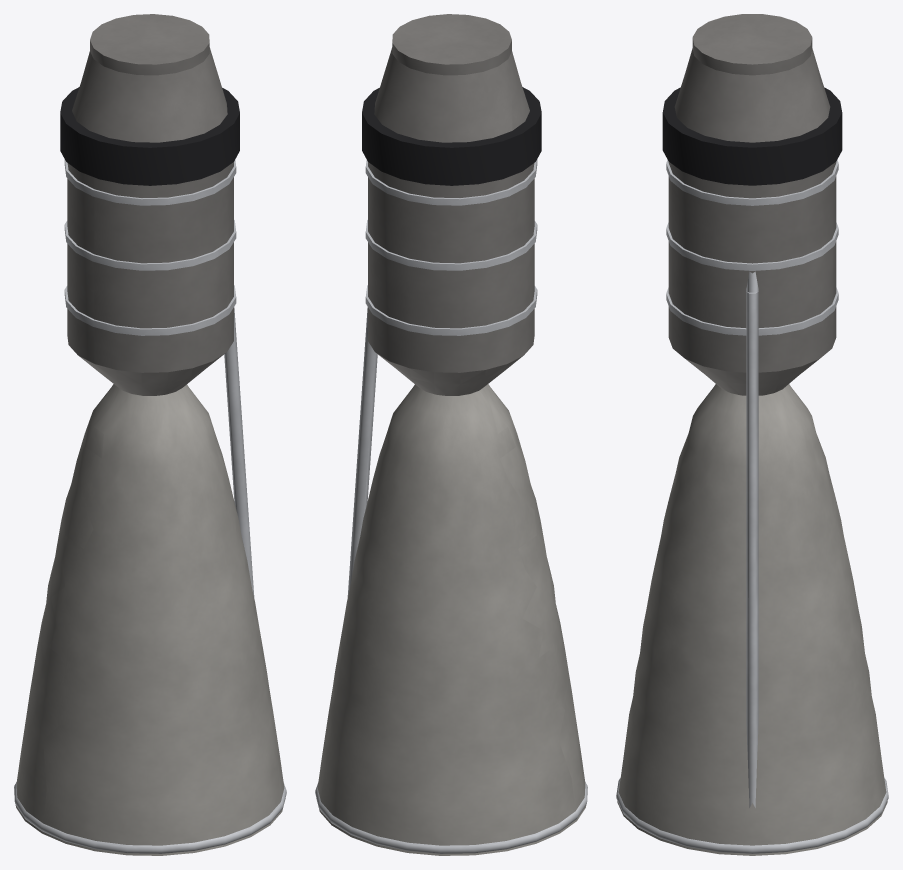
Rendered from prop26_nuclear_thermal.glb.
3 views of the same model, side by side, from view 1: azimuth 30°, elevation 25°; view 2: azimuth 150°, elevation 25°; view 3: azimuth 270°, elevation 25° (orthographic).
Parts seen in each view (by area): view 1: nozzle, reactor_vessel, thrust_structure, radiation_shield, vessel_bands, turbopump, nozzle_manifold; view 2: nozzle, reactor_vessel, thrust_structure, radiation_shield, vessel_bands, turbopump, nozzle_manifold; view 3: nozzle, reactor_vessel, thrust_structure, radiation_shield, turbopump, vessel_bands, nozzle_manifold.
Boxes of the visible parts, box(x1,y1,x2,y2) form: nozzle: box(15, 384, 285, 855); reactor_vessel: box(67, 162, 233, 395); thrust_structure: box(72, 14, 227, 142); radiation_shield: box(60, 87, 239, 185); vessel_bands: box(64, 159, 236, 335); turbopump: box(224, 307, 254, 597); nozzle_manifold: box(14, 782, 286, 853); nozzle: box(316, 384, 586, 855); reactor_vessel: box(368, 162, 534, 395); thrust_structure: box(374, 14, 529, 142); radiation_shield: box(362, 87, 541, 185); vessel_bands: box(365, 159, 537, 335); turbopump: box(347, 307, 377, 597); nozzle_manifold: box(315, 782, 587, 853); nozzle: box(617, 384, 887, 855); reactor_vessel: box(668, 162, 836, 395); thrust_structure: box(674, 14, 830, 142); radiation_shield: box(662, 87, 842, 185); turbopump: box(746, 271, 758, 807); vessel_bands: box(666, 160, 838, 335); nozzle_manifold: box(616, 778, 888, 853).
Size of the model in its own units: 2.28 by 7 by 2.28.
Materials: 4 (3 with a texture image).
